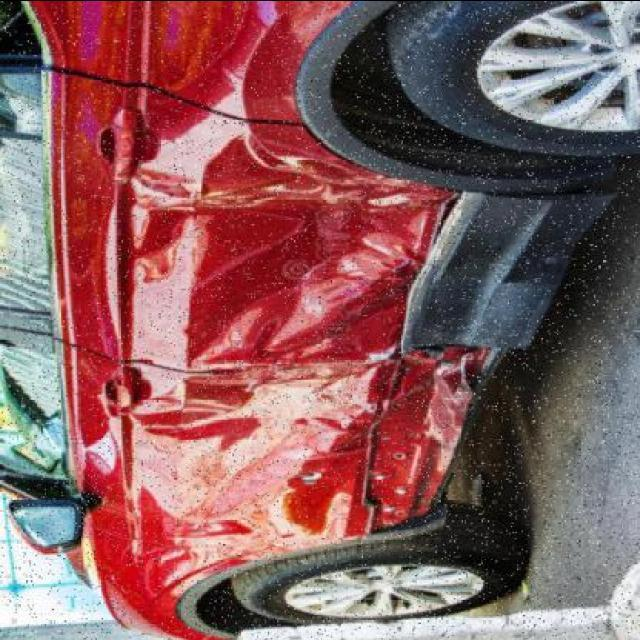doorouter-dent: (54, 94, 422, 368), (56, 365, 420, 548)
